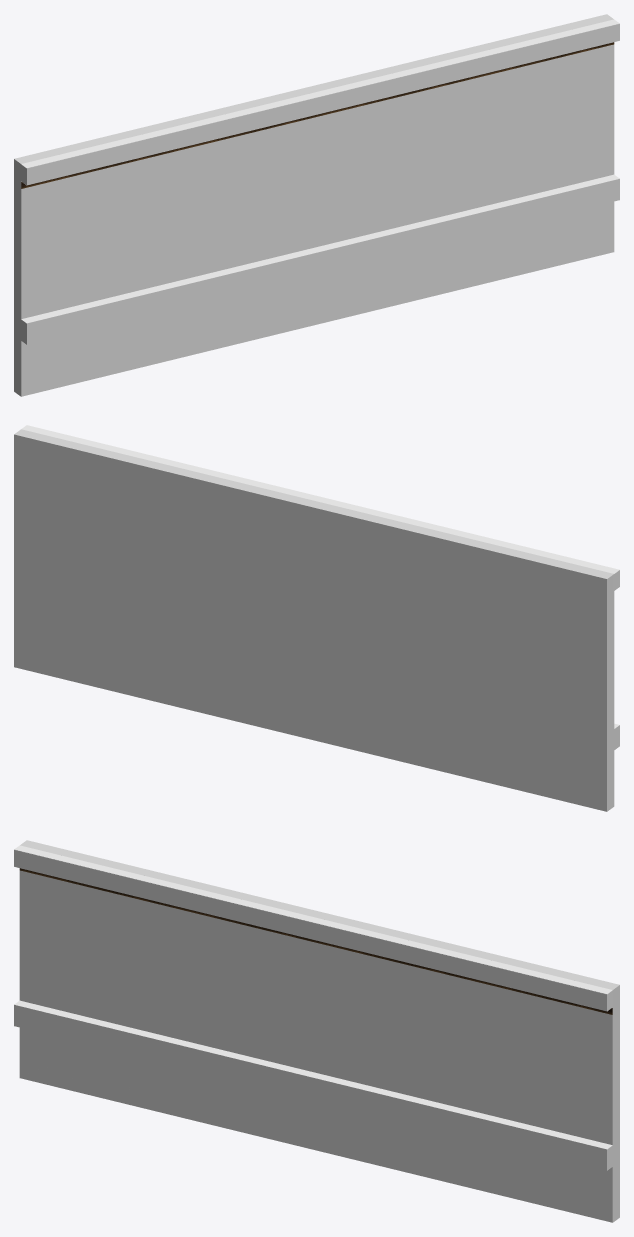
Rendered from Wall_A_Exterior_Window_01_x8.fbx.
The picture shows the model from 3 angles, top to bottom: view 1: azimuth 30°, elevation 25°; view 2: azimuth 150°, elevation 25°; view 3: azimuth 330°, elevation 25°; orthographic projection.
Visible parts, largest first — view 1: C_Wall_A_Exterior_Window_01_x8, Wall_A_Exterior_Window_01_x8; view 2: C_Wall_A_Exterior_Window_01_x8, Wall_A_Exterior_Window_01_x8; view 3: C_Wall_A_Exterior_Window_01_x8, Wall_A_Exterior_Window_01_x8.
Boxes of the visible parts, x1=… form: C_Wall_A_Exterior_Window_01_x8: x1=14, y1=14, x2=619, y2=396; Wall_A_Exterior_Window_01_x8: x1=21, y1=19, x2=619, y2=323; C_Wall_A_Exterior_Window_01_x8: x1=14, y1=429, x2=619, y2=811; Wall_A_Exterior_Window_01_x8: x1=21, y1=425, x2=619, y2=728; C_Wall_A_Exterior_Window_01_x8: x1=14, y1=840, x2=619, y2=1222; Wall_A_Exterior_Window_01_x8: x1=14, y1=845, x2=612, y2=1149.
Bounding box in the file's own units: 8 × 3 × 0.3017.
